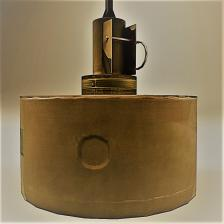M21: (18, 15, 204, 221)
